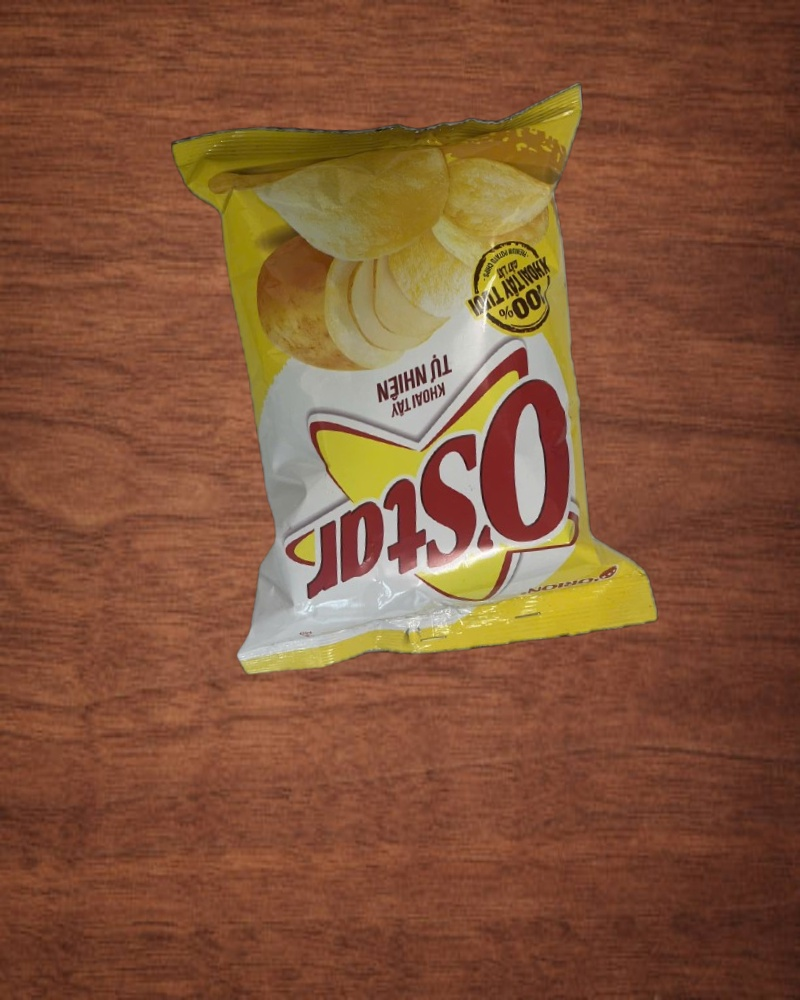Snack cua: (175, 87, 658, 671)
